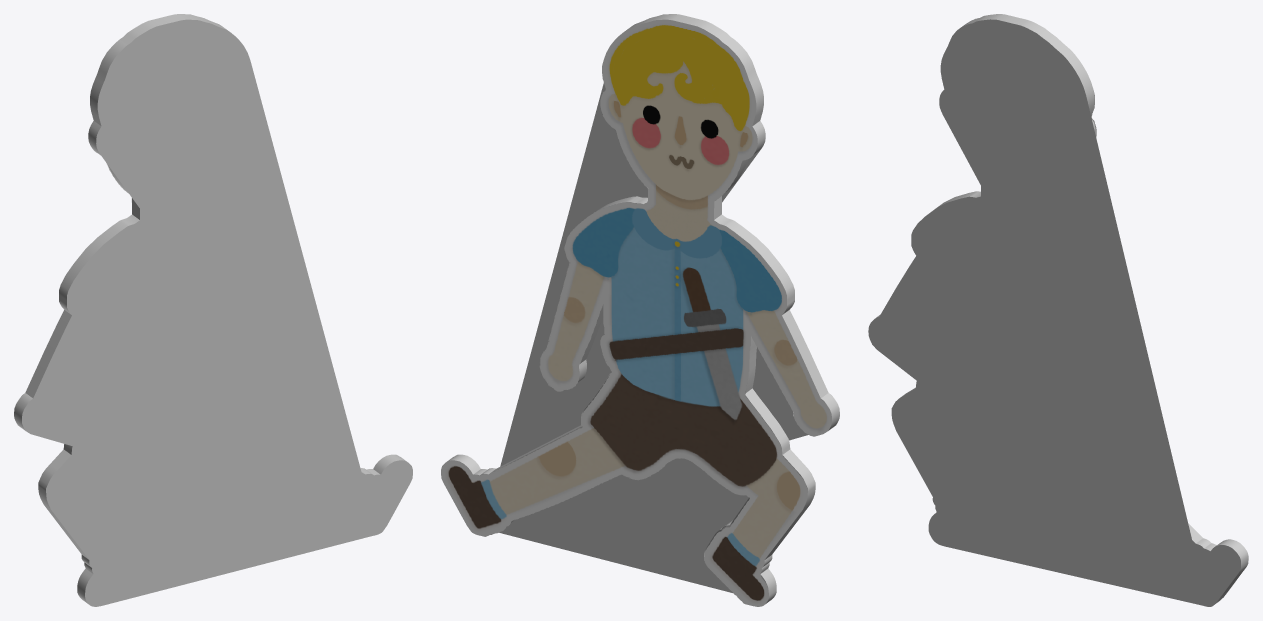
The model's file is princeDashAlt.fbx.
3 views of the same model, side by side, from view 1: azimuth 30°, elevation 25°; view 2: azimuth 150°, elevation 25°; view 3: azimuth 330°, elevation 25° (orthographic). The views are drawn at different scales.
Parts seen in each view (by area): view 1: princeDashAlt; view 2: princeDashAlt; view 3: princeDashAlt.
Part boxes in pixels (x1=…): princeDashAlt: x1=14, y1=14, x2=412, y2=606; princeDashAlt: x1=441, y1=14, x2=839, y2=606; princeDashAlt: x1=868, y1=14, x2=1248, y2=606.
Size of the model in its own units: 302 by 418 by 10.49.
